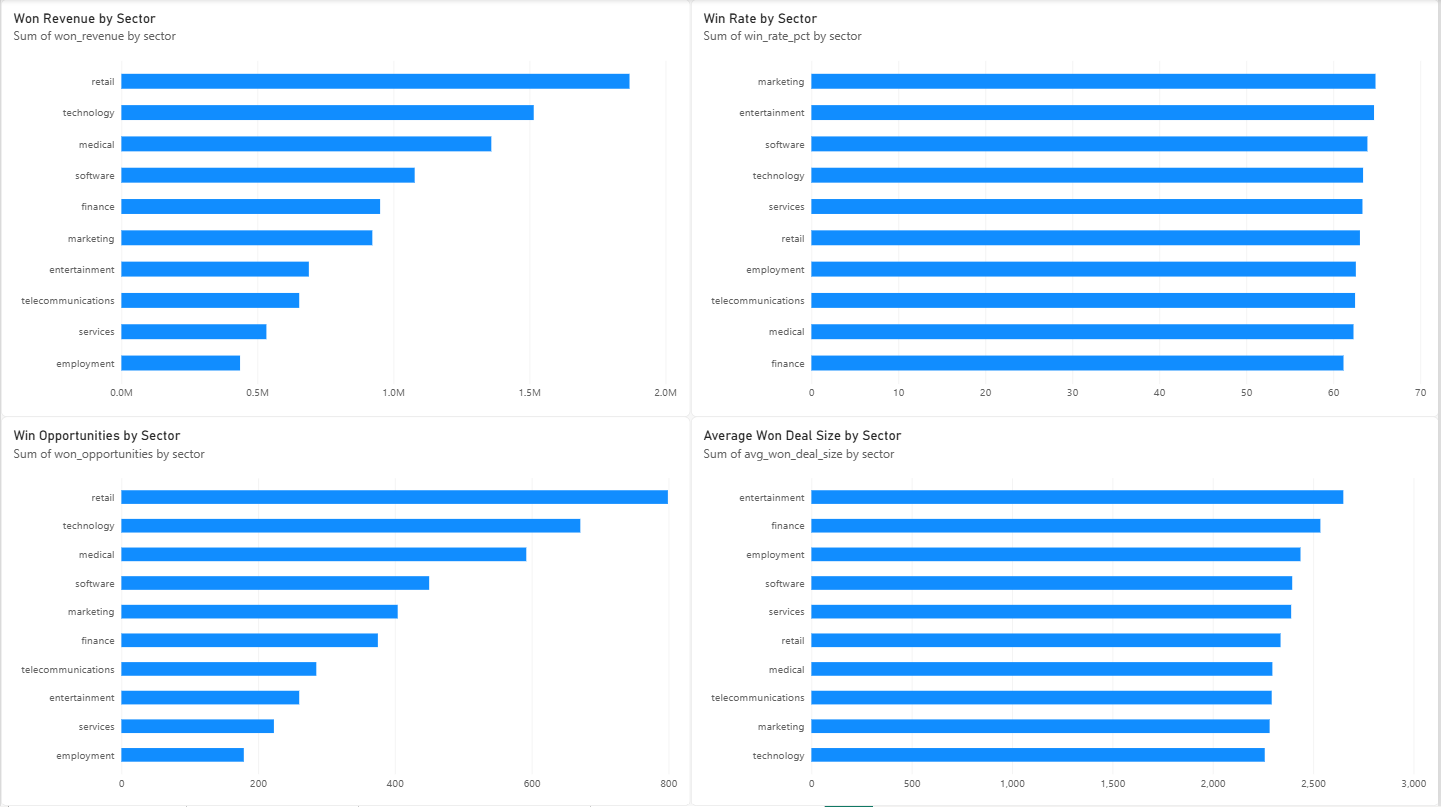

The page's visual inventory and layout, read from the dashboard file:
{"tool":"powerbi","page":{"name":"Account & Market Analysis","canvas":[1920,1080],"ordinal":3},"visuals":[{"type":"clusteredBarChart","title":"Won Revenue by Sector","fields":{"Category":["sector_performance.sector"],"Y":["Sum(sector_performance.won_revenue)"]},"box":[0,0,920.9,558.1],"z":0},{"type":"clusteredBarChart","title":"Win Rate by Sector","fields":{"Category":["sector_performance.sector"],"Y":["Sum(sector_performance.win_rate_pct)"]},"box":[920.9,0,999.4,558.1],"z":1},{"type":"clusteredBarChart","title":"Win Opportunities by Sector","fields":{"Category":["sector_performance.sector"],"Y":["Sum(sector_performance.won_opportunities)"]},"box":[0,558.1,920.9,521.5],"z":2},{"type":"clusteredBarChart","title":"Average Won Deal Size by Sector","fields":{"Category":["sector_performance.sector"],"Y":["Sum(sector_performance.avg_won_deal_size)"]},"box":[920.9,558.1,999.4,521.5],"z":3}]}

Visuals, with their boxes in screenshot pixels (x1, y1, x2, y2), scaled from the page's 1920x1080 canvas onto the 1441x807 screenshot:
"Won Revenue by Sector" clusteredBarChart: box(0, 0, 691, 417)
"Win Rate by Sector" clusteredBarChart: box(691, 0, 1440, 417)
"Win Opportunities by Sector" clusteredBarChart: box(0, 417, 691, 806)
"Average Won Deal Size by Sector" clusteredBarChart: box(691, 417, 1440, 806)
